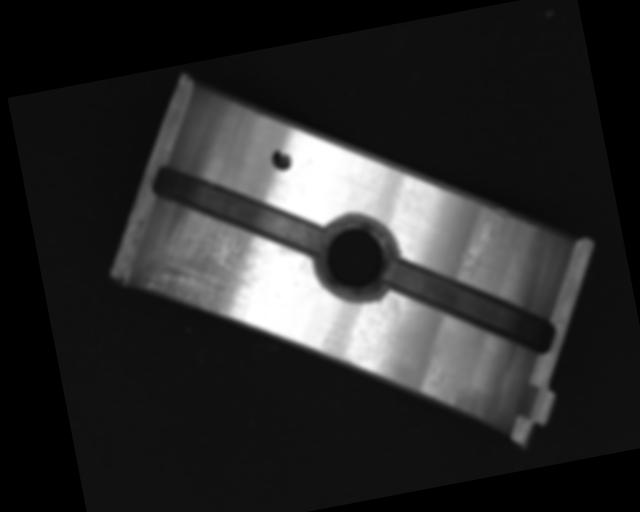blot: (268, 147, 293, 172)
bruise: (424, 363, 447, 389)
gap: (383, 234, 560, 379), (149, 142, 325, 280)
hole: (308, 209, 406, 308)
nick: (450, 206, 517, 280)
scratch: (128, 194, 301, 342)
